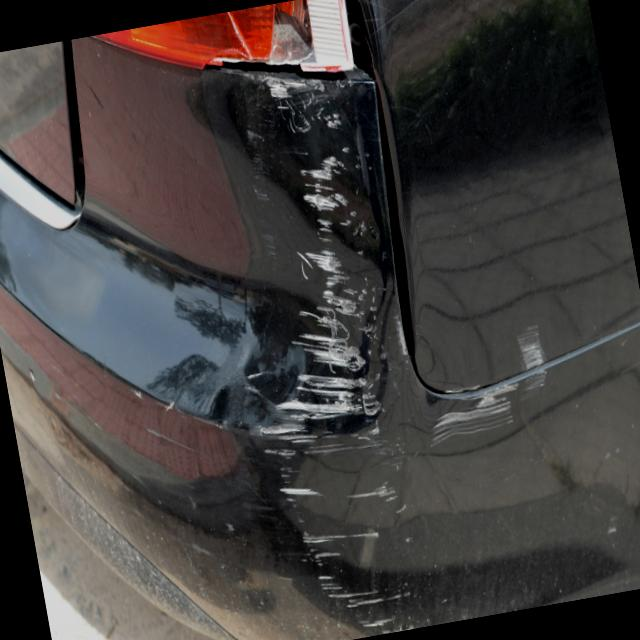Rayure: (184, 33, 454, 640), (414, 319, 577, 484)
